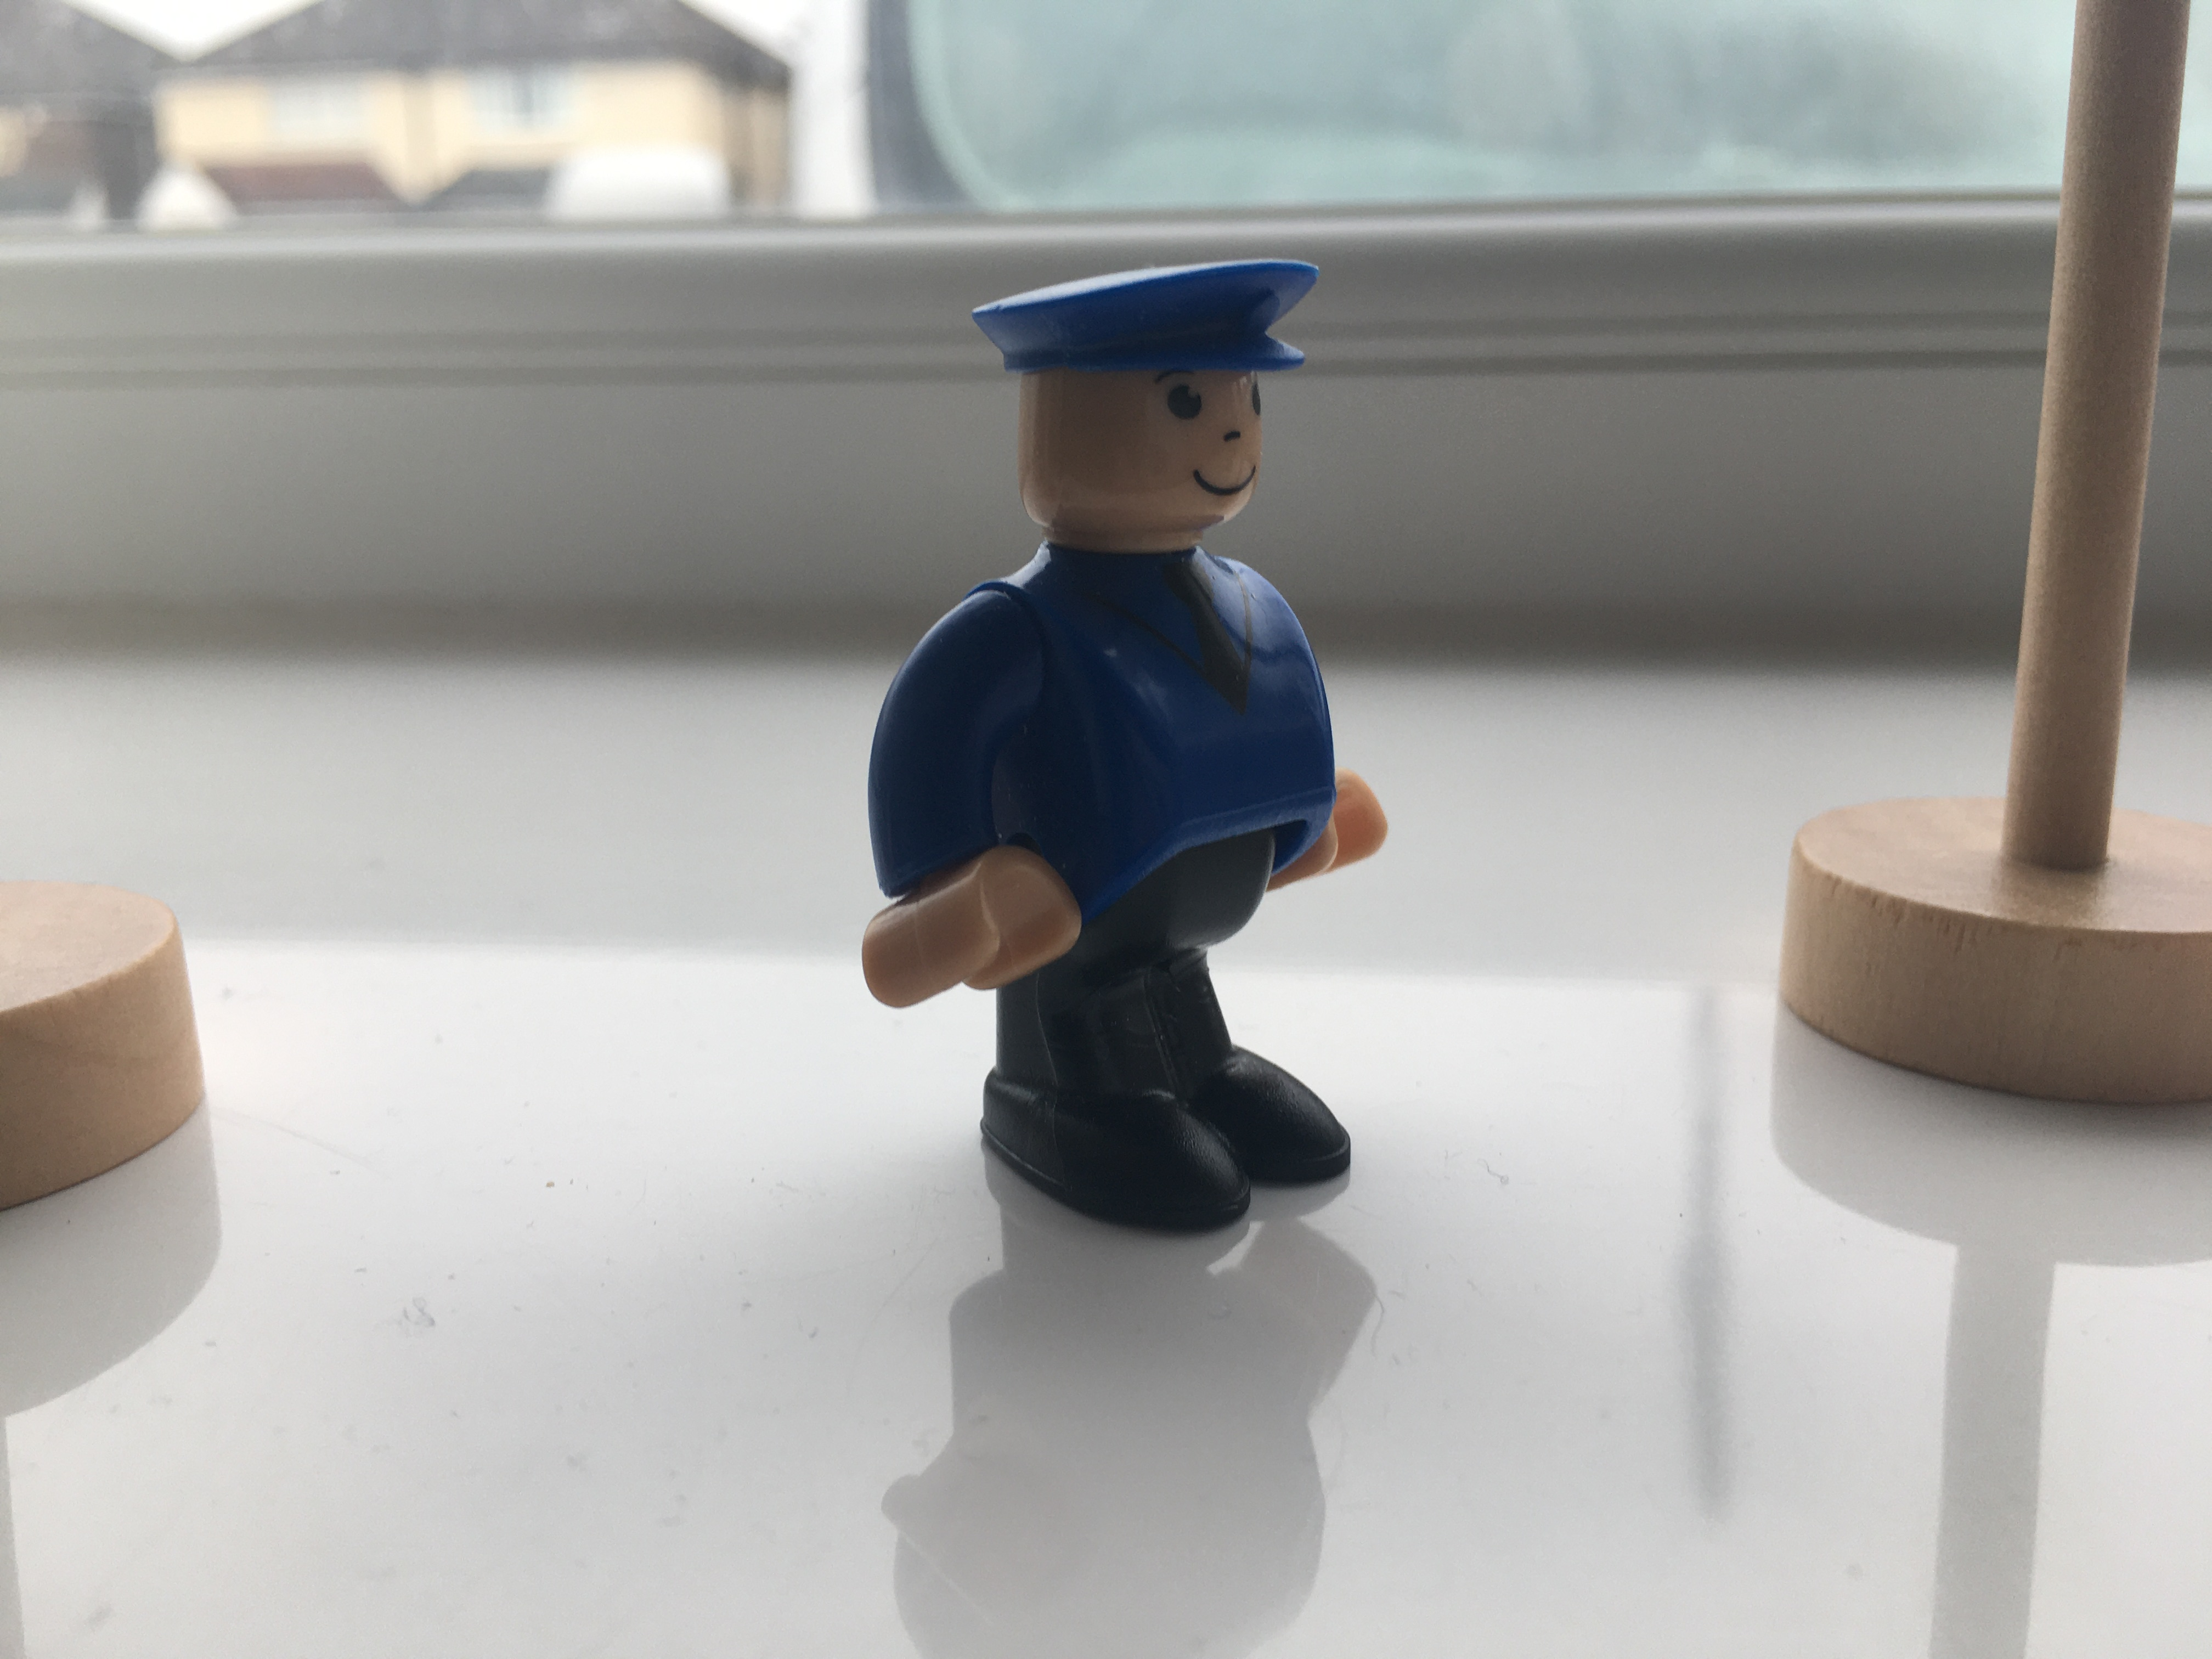person: (811, 229, 1430, 1258)
